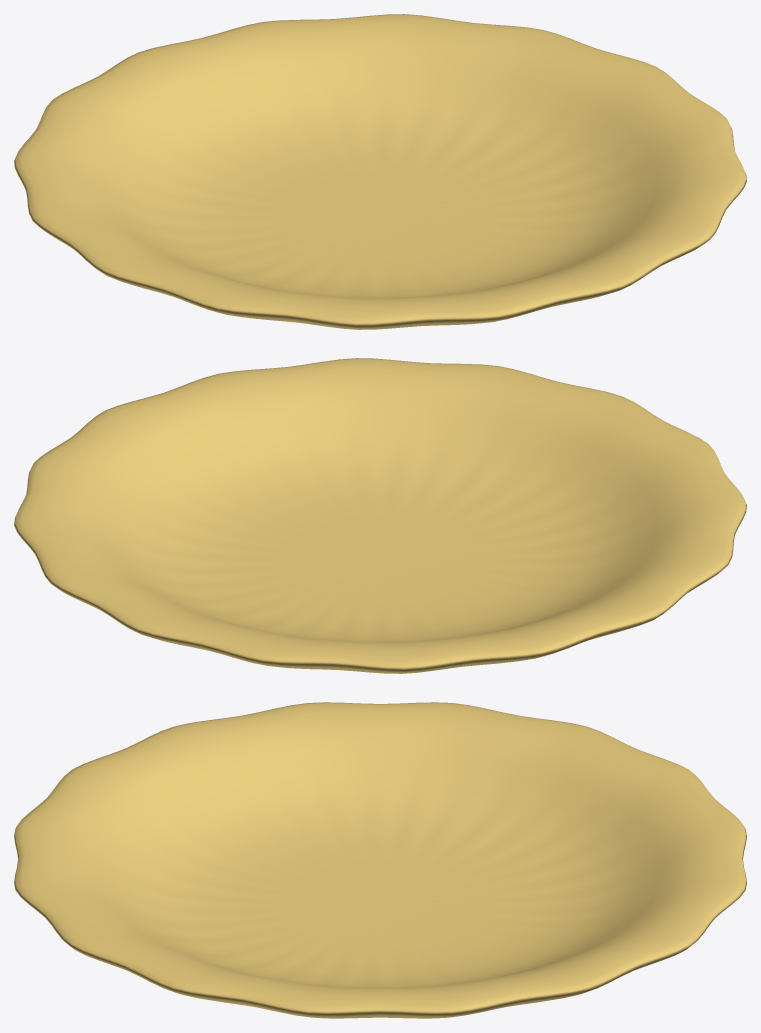
File: plate_V1.fbx
3 renders of one model, top to bottom at view 1: azimuth 30°, elevation 25°; view 2: azimuth 150°, elevation 25°; view 3: azimuth 270°, elevation 25°, orthographic.
Visible parts, largest first — view 1: plate_V1_GEO_01; view 2: plate_V1_GEO_01; view 3: plate_V1_GEO_01.
Part boxes in pixels (<box>): plate_V1_GEO_01: <box>14,14,746,329</box>; plate_V1_GEO_01: <box>14,358,746,673</box>; plate_V1_GEO_01: <box>14,702,746,1018</box>.
Size of the model in its own units: 23.07 by 2 by 23.07.
